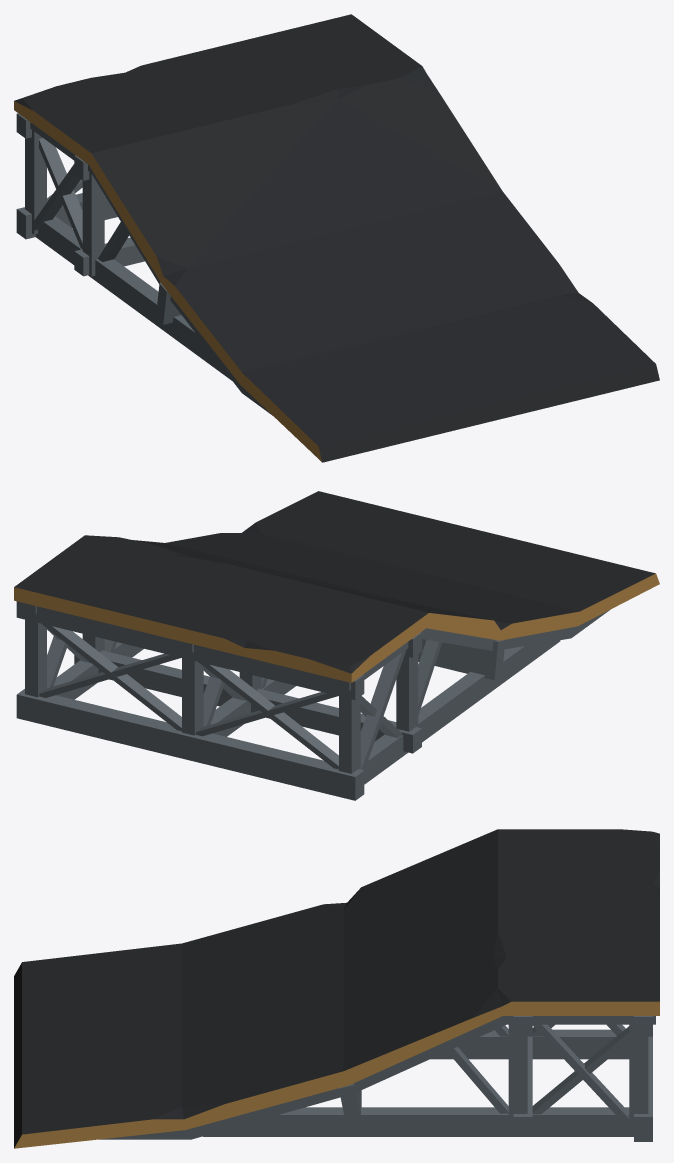
The model's file is SM_Prop_Ramp_Metal.fbx.
3 renders of one model, top to bottom at view 1: azimuth 30°, elevation 25°; view 2: azimuth 150°, elevation 25°; view 3: azimuth 270°, elevation 25°, orthographic. The views are drawn at different scales.
Parts seen in each view (by area): view 1: SM_Prop_Ramp_Metal; view 2: SM_Prop_Ramp_Metal; view 3: SM_Prop_Ramp_Metal.
Boxes of the visible parts, left/top/right/bottom form: SM_Prop_Ramp_Metal: left=14, top=14, right=659, bottom=462; SM_Prop_Ramp_Metal: left=14, top=491, right=659, bottom=800; SM_Prop_Ramp_Metal: left=14, top=829, right=659, bottom=1148.
Bounding box in the file's own units: 573 × 229 × 904.
